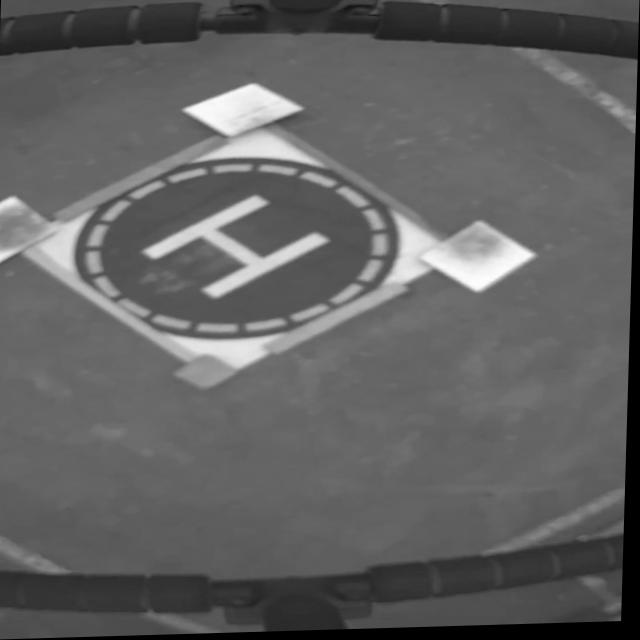Helipad: (140, 195, 328, 300)
